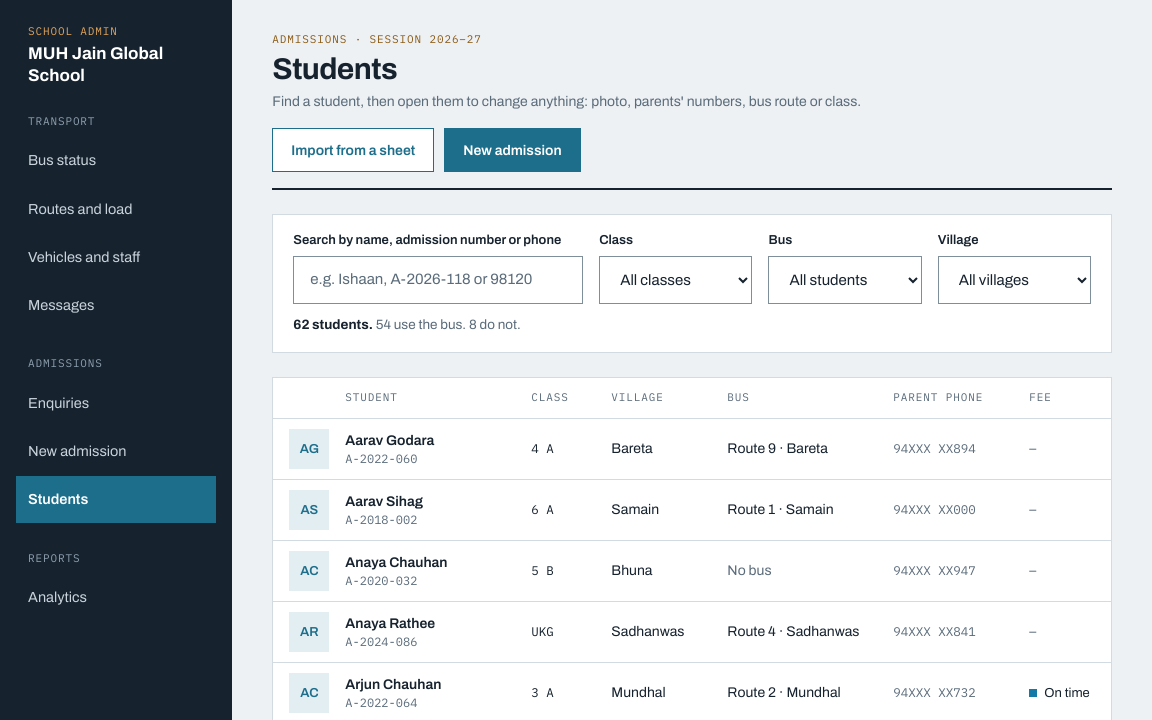
Test: Import dialog › asks for a file before checking
Click the button "Import from a sheet" at (353, 150), box [272, 128, 434, 172]
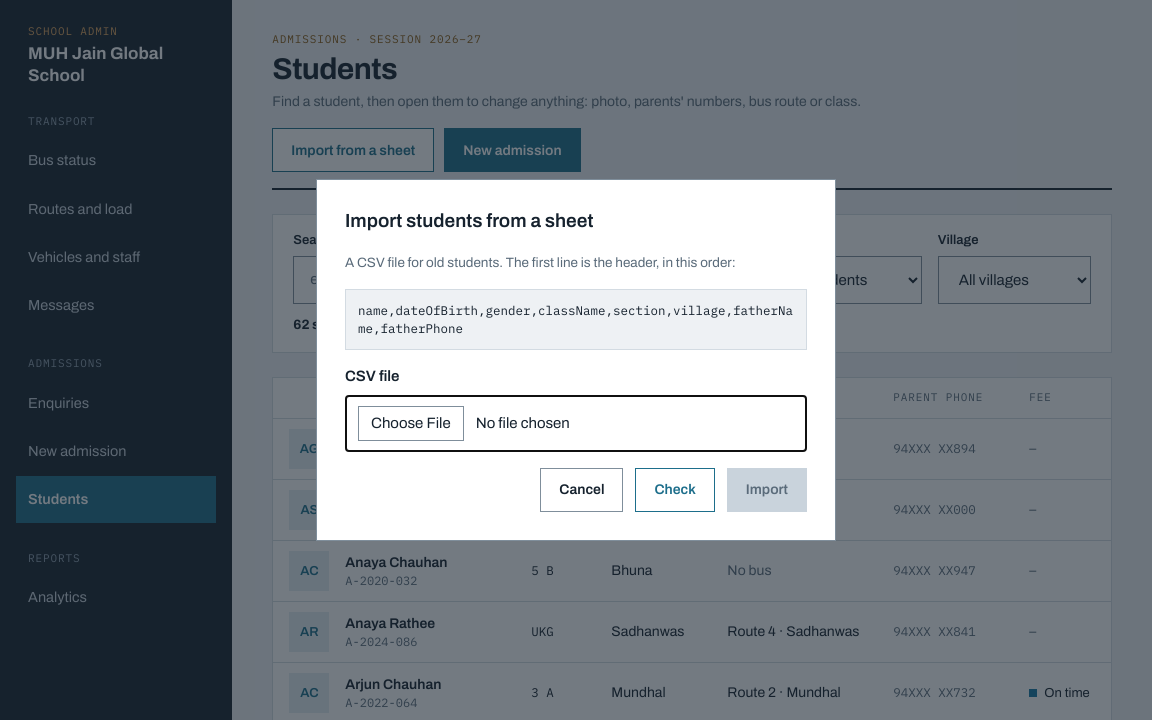
Click the button "Check" at (675, 490), box [636, 468, 715, 512]
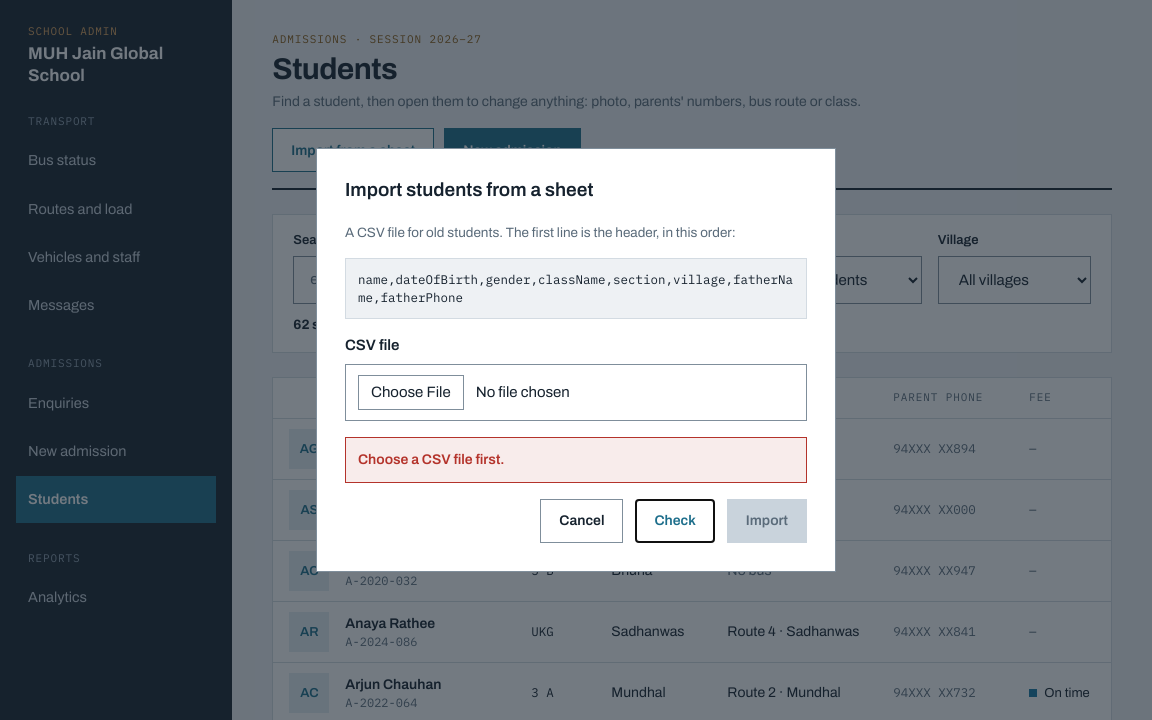
expect the message reads "Choose a CSV file first.": met, box [358, 452, 504, 467]
